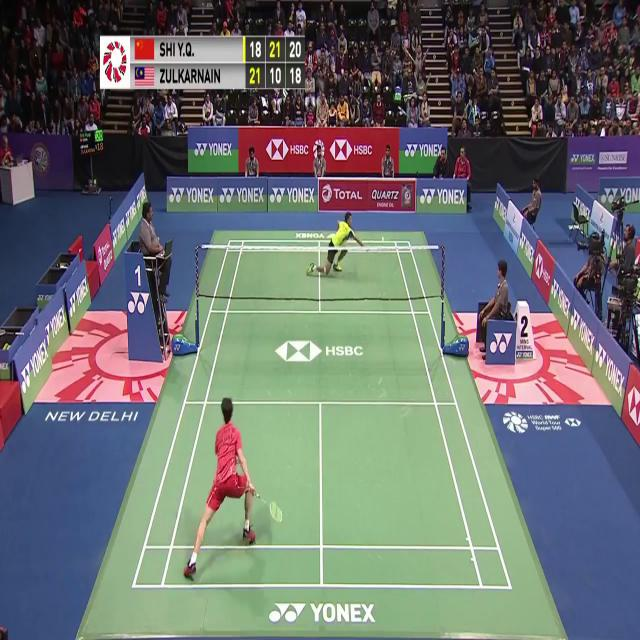Shuttlecock: (379, 232, 386, 243)
